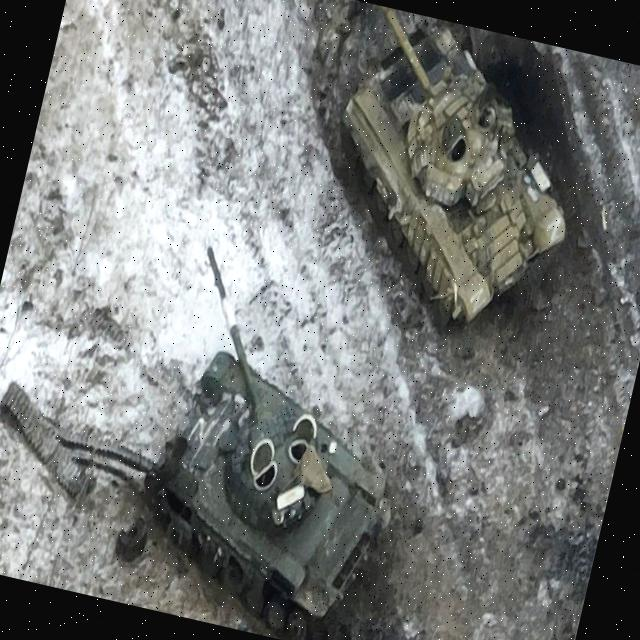MBT: (118, 240, 429, 640), (300, 3, 635, 344)
